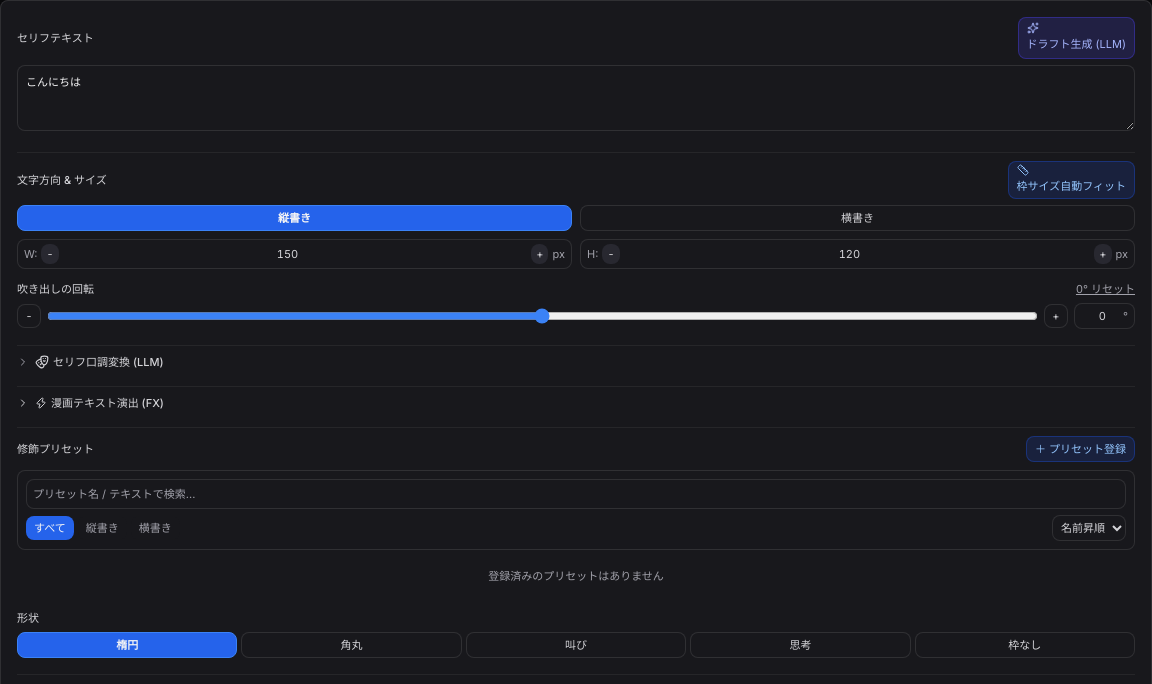
Scenario: SpeechBubbleControls › selects a tone preset and updates prompt textarea
// Open section
Click the button "セリフ口調変換 (LLM)" at (90, 362), box x1=17 y1=355 x2=164 y2=369
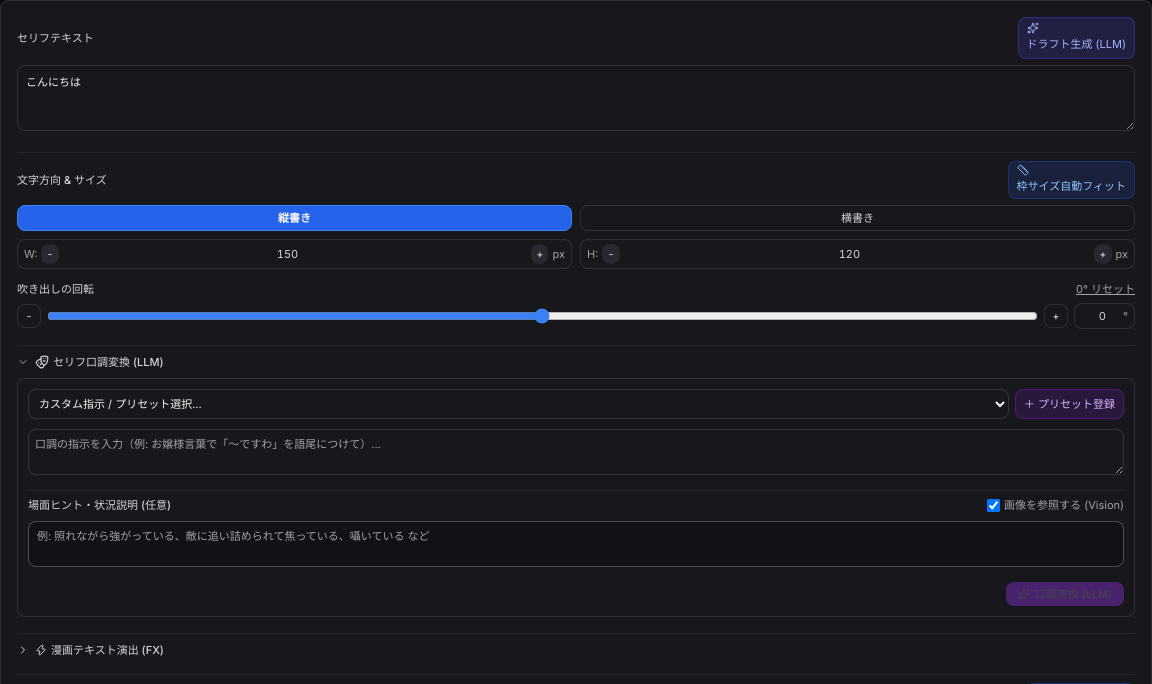
Select "ツンデレ風" in the dropdown named "口調プリセット選択" at (518, 404), box x1=28 y1=389 x2=1009 y2=419
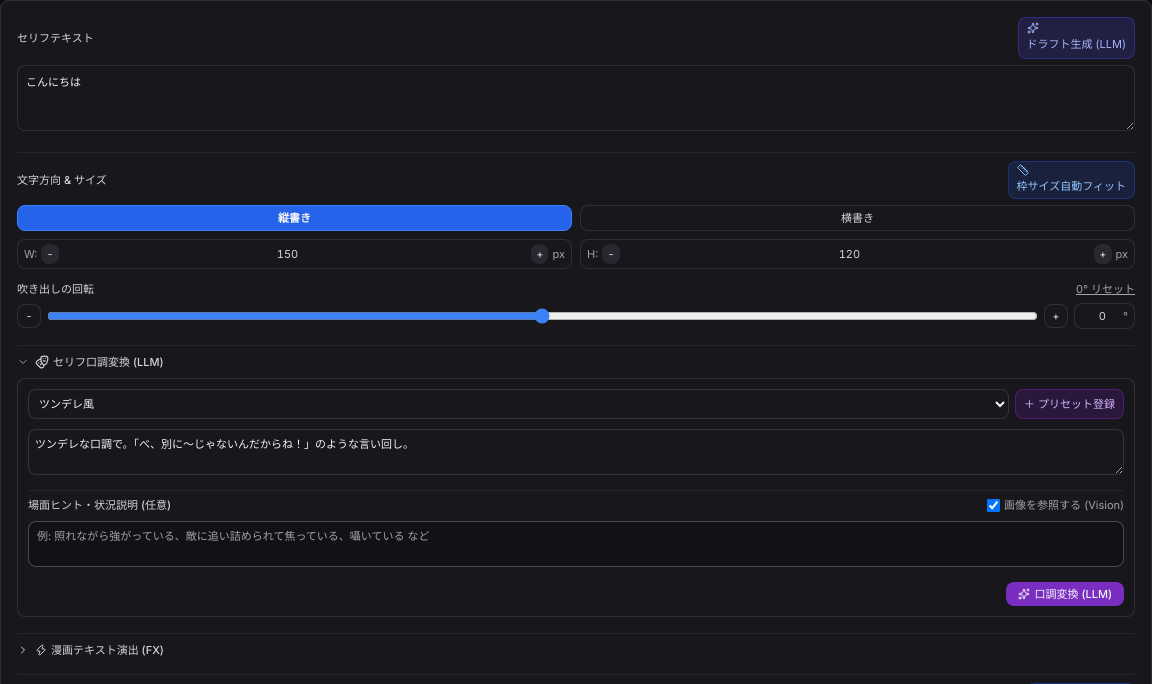
Now the 2nd text box with placeholder "口調の指示を入力（例: お嬢様言葉で「〜ですわ」を語尾につけて）..." holds "ツンデレな口調で。「べ、別に〜じゃないんだからね！」のような言い回し。", box x1=28 y1=429 x2=1124 y2=475
